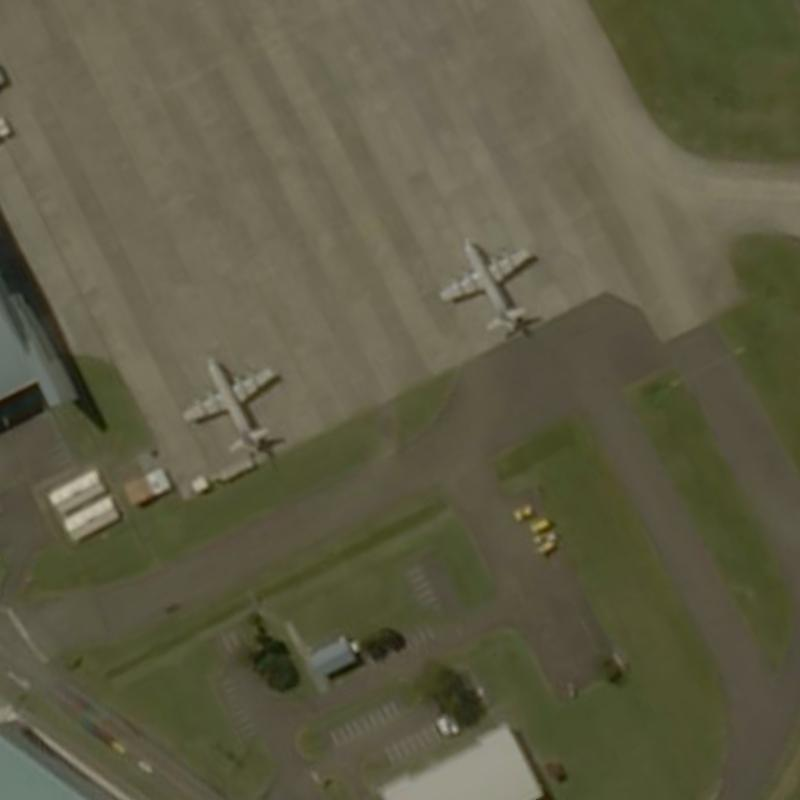A9: (434, 229, 544, 338), (178, 353, 280, 455)
